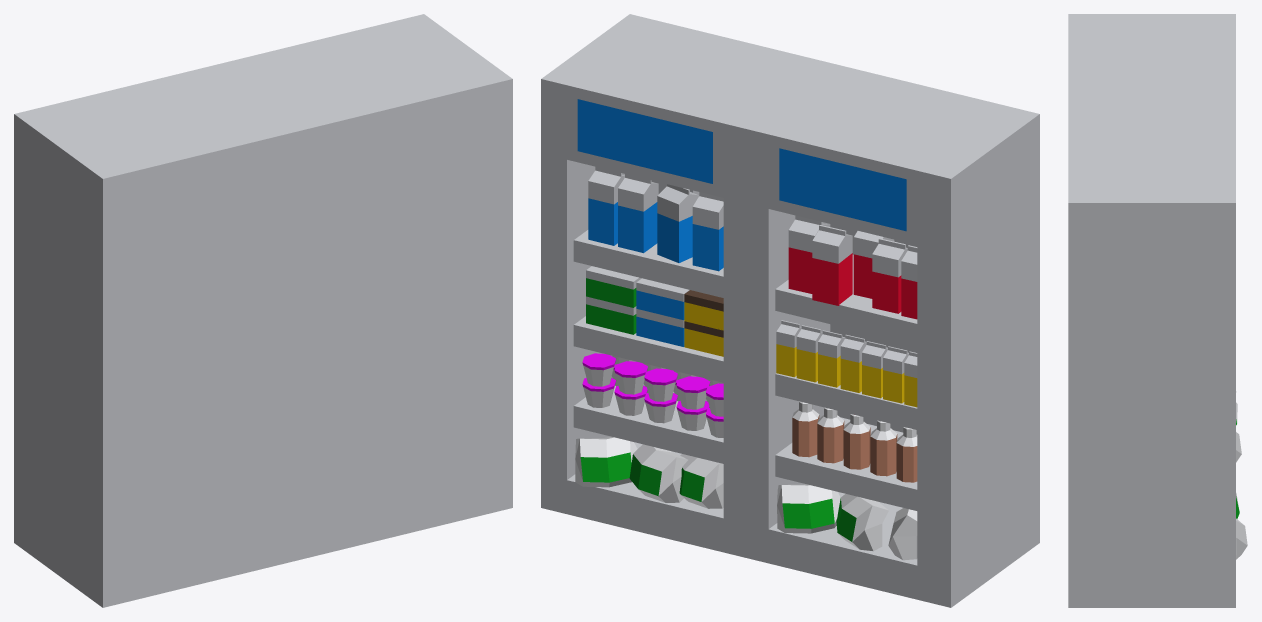
File: surgele.fbx
3 views of the same model, side by side, from view 1: azimuth 30°, elevation 25°; view 2: azimuth 150°, elevation 25°; view 3: azimuth 270°, elevation 25° (orthographic). The views are drawn at different scales.
Parts seen in each view (by area): view 1: Plan.001; view 2: Plan.001; view 3: Plan.001.
Part boxes in pixels (x1,y1,x2,y2): Plan.001: (14,14,512,607); Plan.001: (541,14,1039,607); Plan.001: (1068,14,1247,607).
Size of the model in its own units: 400 by 161 by 400.
